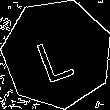L_N: (33, 25, 80, 83)
